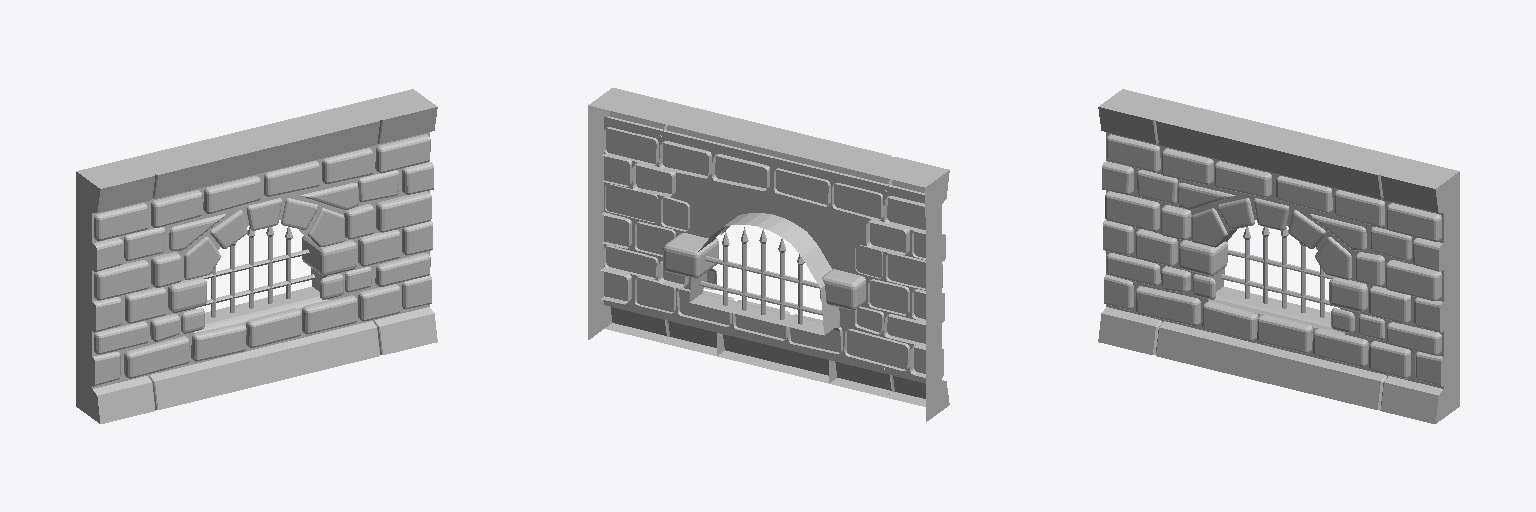
The model's file is wallSingle_windowGate.obj.
3 views of the same model, side by side, from view 1: azimuth 30°, elevation 25°; view 2: azimuth 150°, elevation 25°; view 3: azimuth 330°, elevation 25° (orthographic).
Parts seen in each view (by area): view 1: wallSingle_windowGate_Cube.2620; view 2: wallSingle_windowGate_Cube.2620; view 3: wallSingle_windowGate_Cube.2620.
Boxes of the visible parts, x1=… form: wallSingle_windowGate_Cube.2620: x1=76, y1=89, x2=437, y2=423; wallSingle_windowGate_Cube.2620: x1=588, y1=88, x2=949, y2=421; wallSingle_windowGate_Cube.2620: x1=1098, y1=89, x2=1459, y2=423.
Bounding box in the file's own units: 6 × 4 × 0.8142.